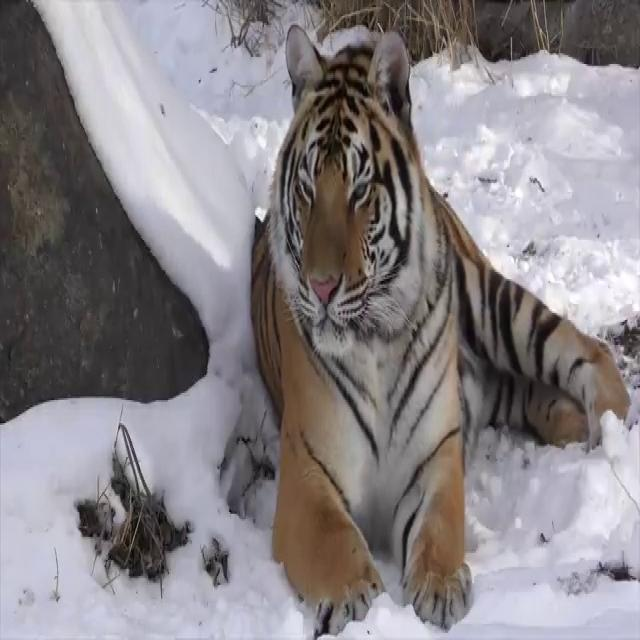tiger: (250, 23, 633, 636)
